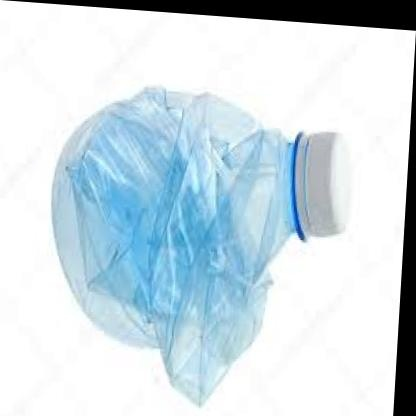trash: (52, 88, 345, 404)
